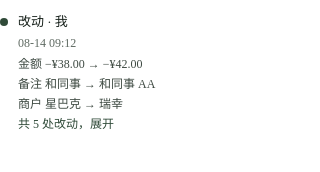
Scenario: EventTimeline › more than three changed fields fold up until asked
Expected: the text "招行储蓄卡 → 招行信用卡" is not shown
Click the button with test id "ev-expand-a" at (87, 124), box [18,116,155,132]
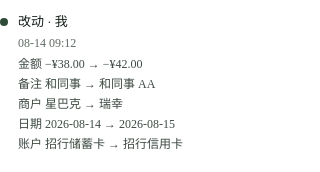
Expected: the text "账户 招行储蓄卡 → 招行信用卡" is shown, [18,136,183,152]
Expected: the button with test id "ev-expand-a" is gone
